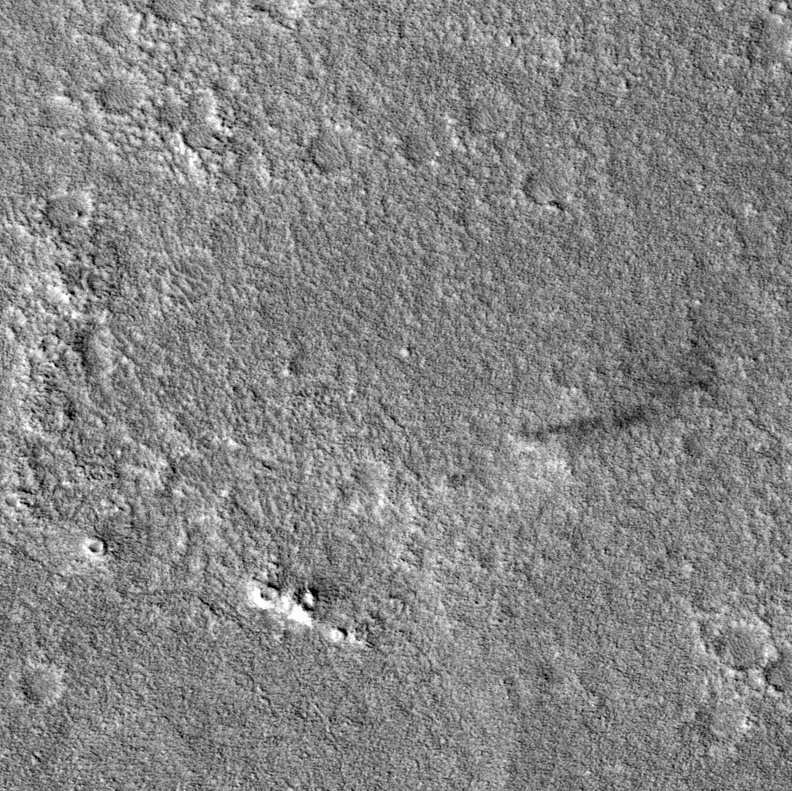dust_devil: (505, 403, 661, 468)
